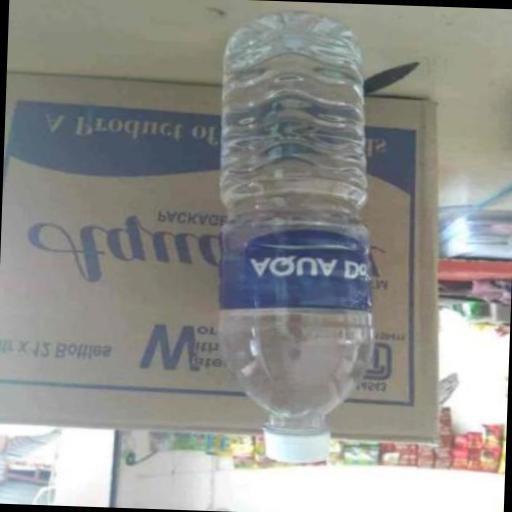Coca: (198, 5, 396, 478)
